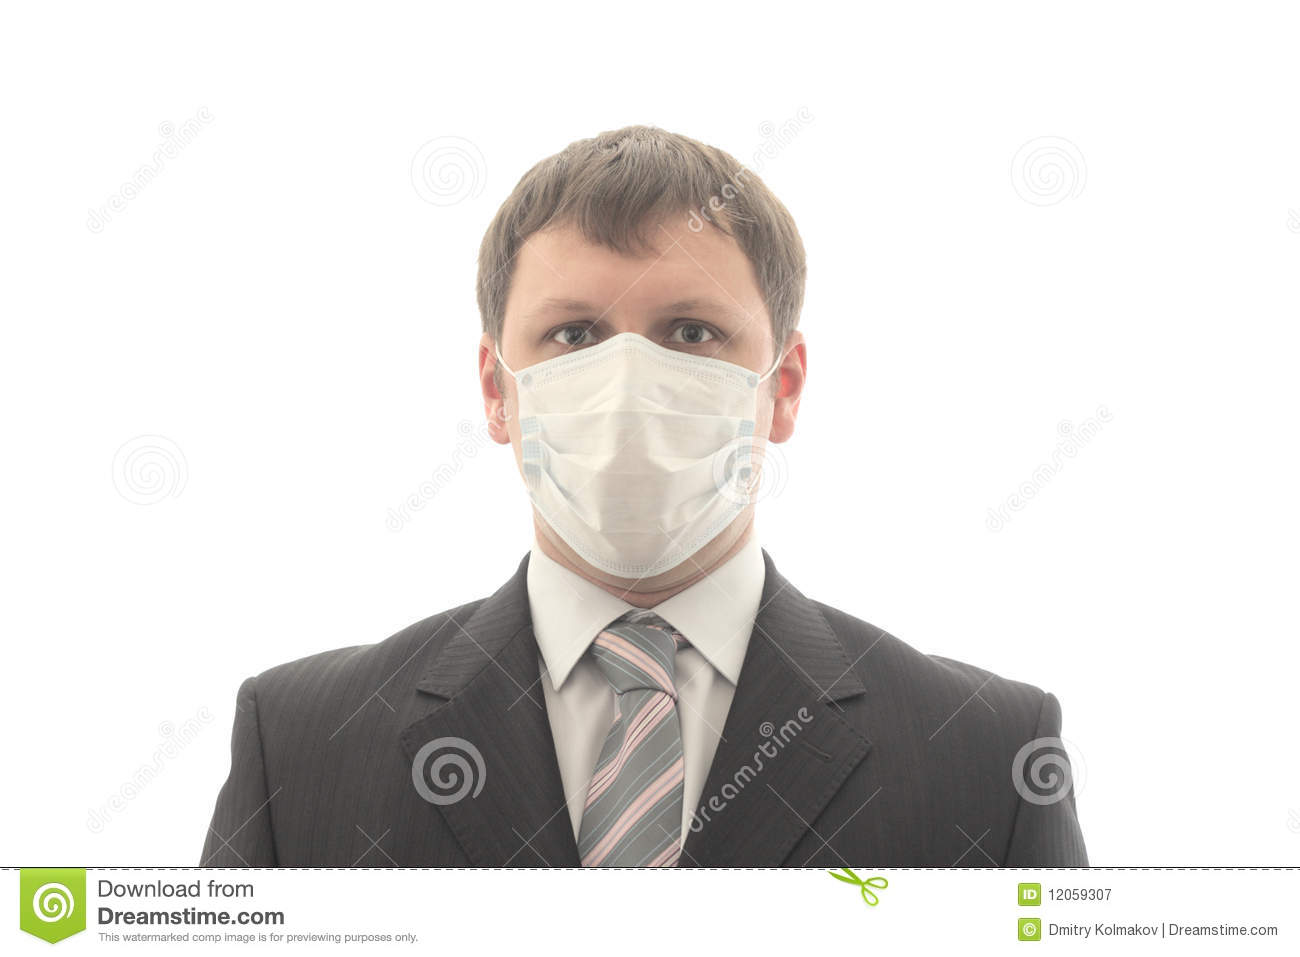mask: (509, 334, 768, 586)
